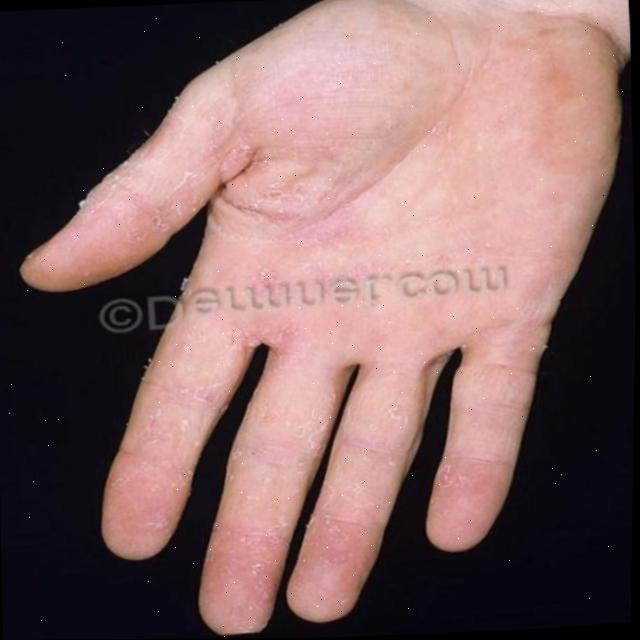Eczema: (93, 71, 552, 608)
